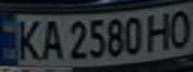0: (121, 13, 148, 55)
2: (63, 17, 90, 61)
5: (87, 16, 109, 60)
8: (103, 16, 127, 58)
A: (36, 17, 66, 62)
H: (142, 8, 178, 52)
K: (9, 16, 48, 62)
O: (163, 6, 193, 49)
